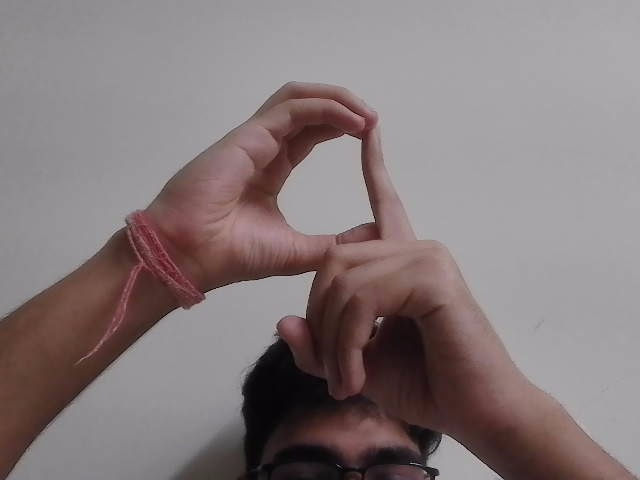D: (166, 83, 512, 317)
